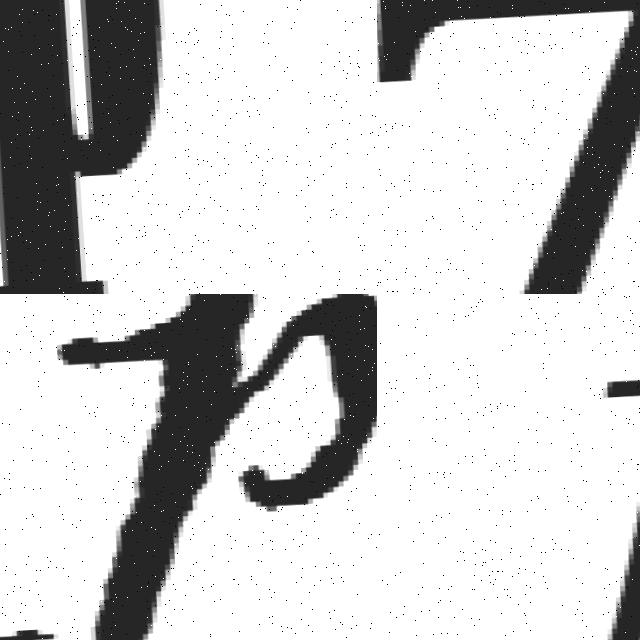7: (377, 0, 640, 294)
F: (430, 294, 640, 640)
P: (25, 294, 377, 640)
